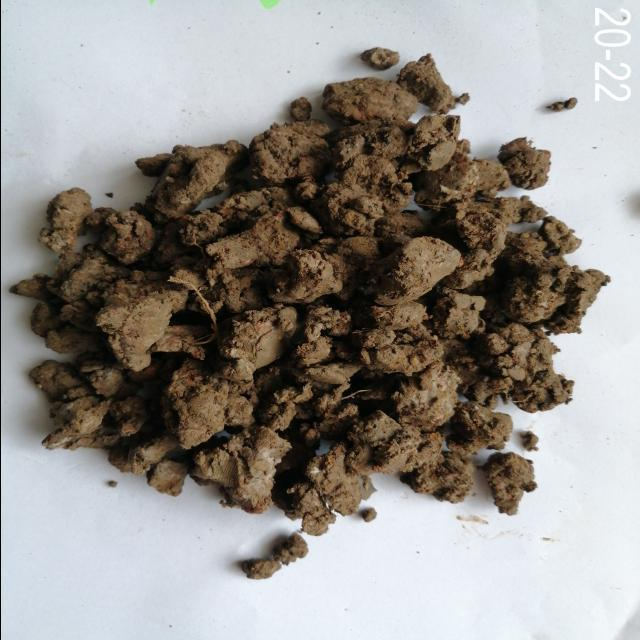soil: (140, 188, 498, 440)
